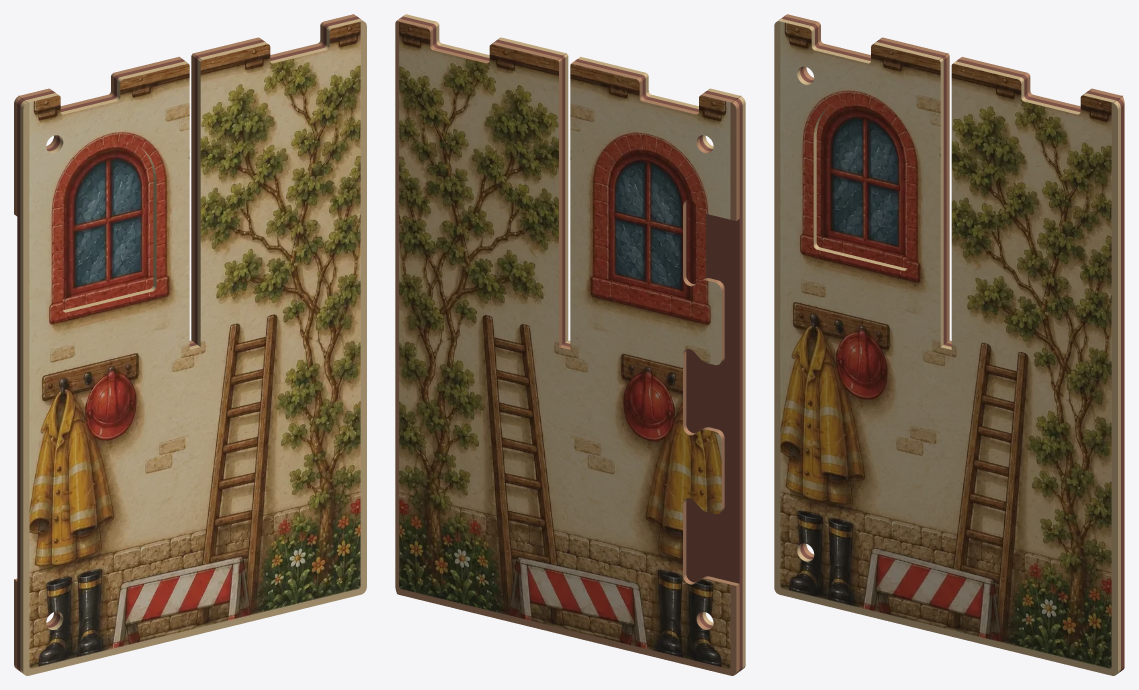
File: narrow-panel-body.glb
The picture shows the model from 3 angles, left to right: view 1: azimuth 30°, elevation 25°; view 2: azimuth 150°, elevation 25°; view 3: azimuth 330°, elevation 25°; orthographic projection.
Parts seen in each view (by area): view 1: narrow-panel-body; view 2: narrow-panel-body; view 3: narrow-panel-body.
Part boxes in pixels (x1,y1,x2,y2): narrow-panel-body: (14,14,366,675); narrow-panel-body: (395,14,745,675); narrow-panel-body: (774,14,1124,675).
Bounding box in the file's own units: 580 × 926 × 27.
6 materials, 3 textured.
